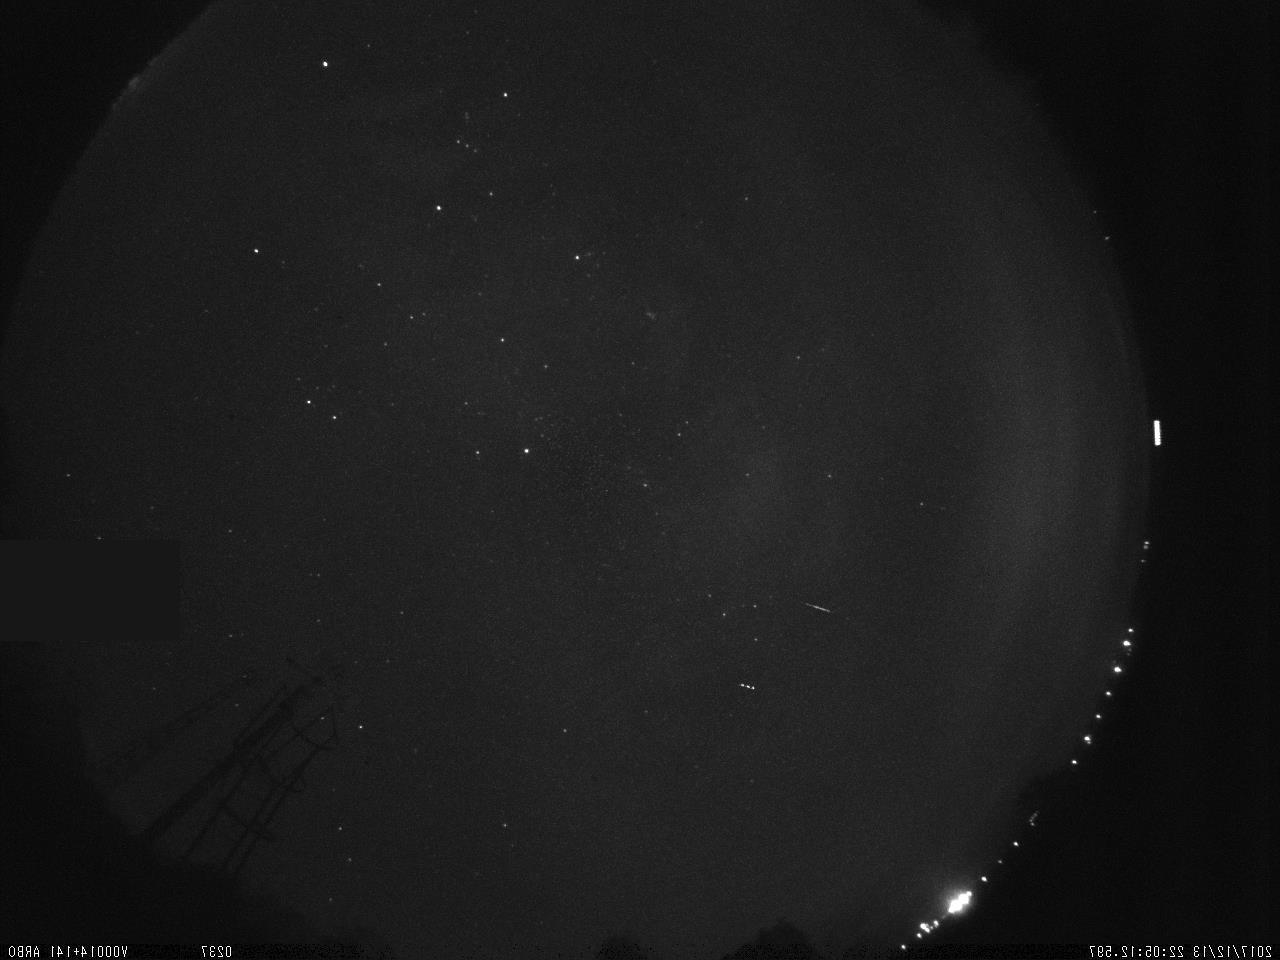meteor: (799, 596, 838, 618)
